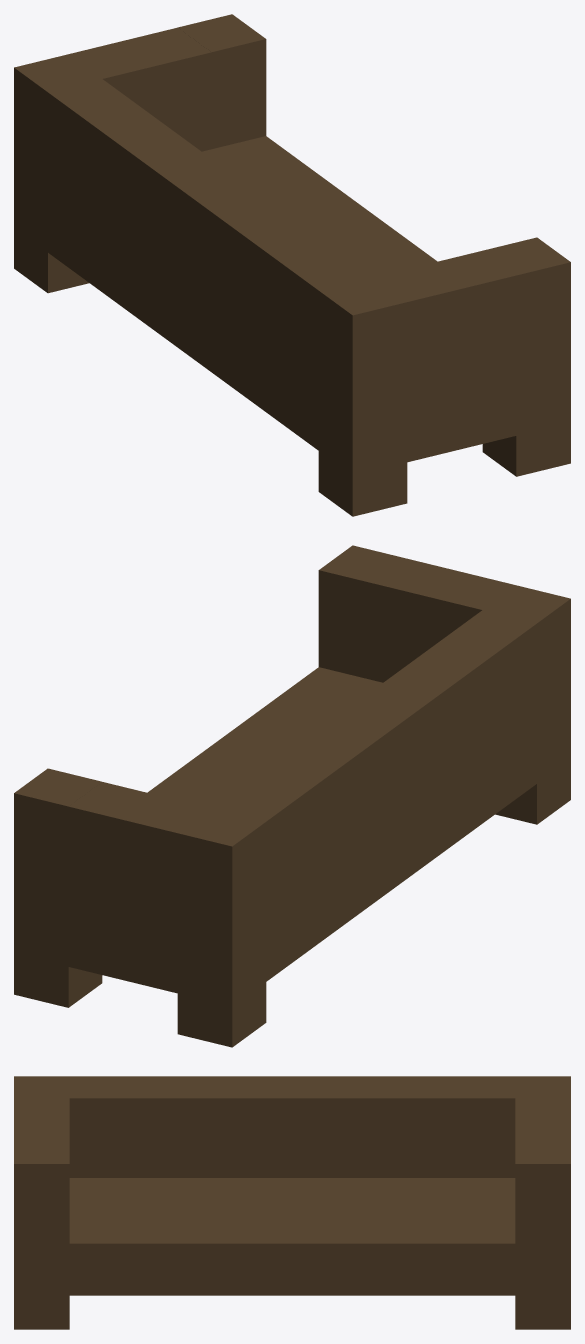
The model's file is Sofa.fbx.
3 views of the same model, one above another, from view 1: azimuth 30°, elevation 25°; view 2: azimuth 150°, elevation 25°; view 3: azimuth 270°, elevation 25° (orthographic). The views are drawn at different scales.
Visible parts, largest first — view 1: Cube; view 2: Cube; view 3: Cube.
Boxes of the visible parts, x1,y1,x2,y2 form: Cube: [14, 14, 570, 516]; Cube: [14, 545, 570, 1047]; Cube: [14, 1076, 570, 1329].
Size of the model in its own units: 209 by 184 by 561.
